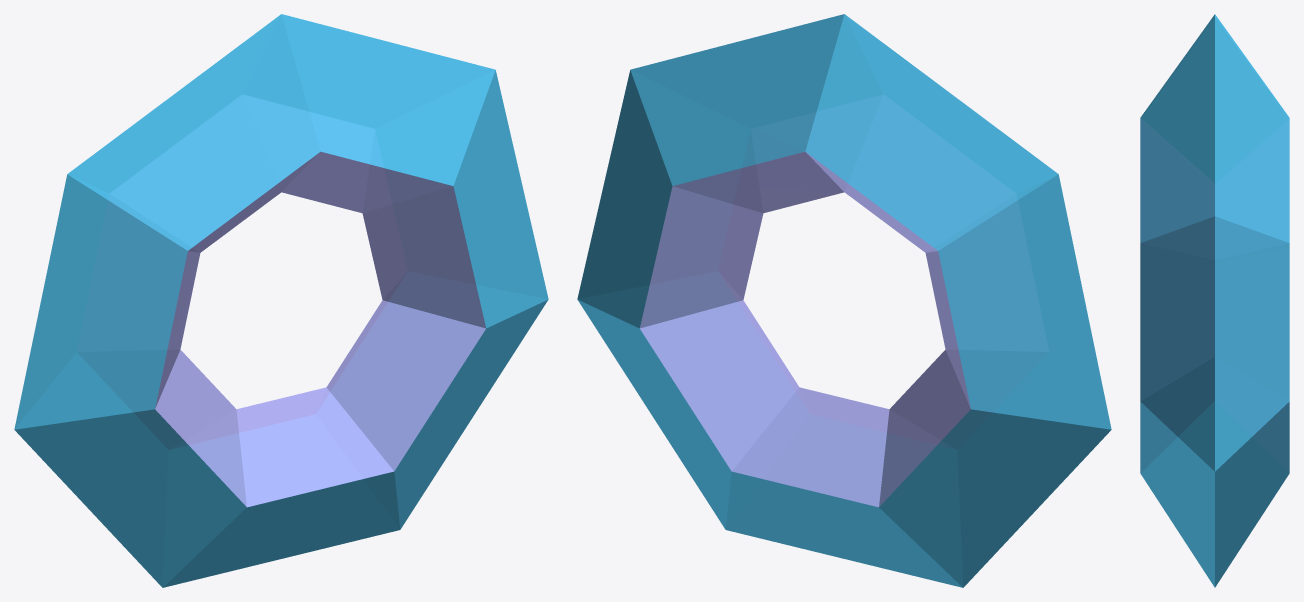
Rendered from Regular7TetragonalToroid.obj.
The picture shows the model from 3 angles, left to right: view 1: azimuth 30°, elevation 25°; view 2: azimuth 150°, elevation 25°; view 3: azimuth 270°, elevation 25°; orthographic projection. The views are drawn at different scales.
Size of the model in its own units: 2.76 by 2.69 by 0.7.
